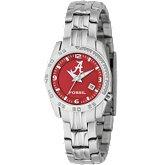watch: (46, 41, 112, 115)
